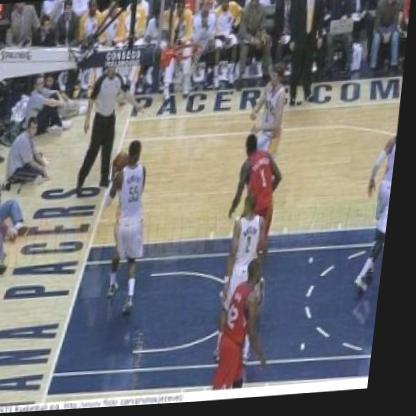basketball: (117, 154, 134, 174)
